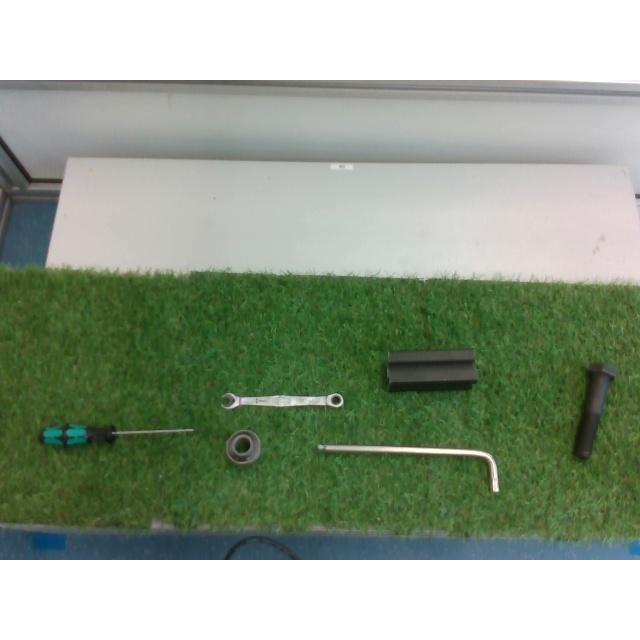AllenKey: (317, 443, 499, 492)
Bearing2: (226, 430, 262, 466)
M20_100: (572, 362, 616, 458)
S40_40_B: (387, 349, 478, 391)
Screwdriver: (39, 424, 193, 444)
Wrench: (221, 394, 343, 411)
